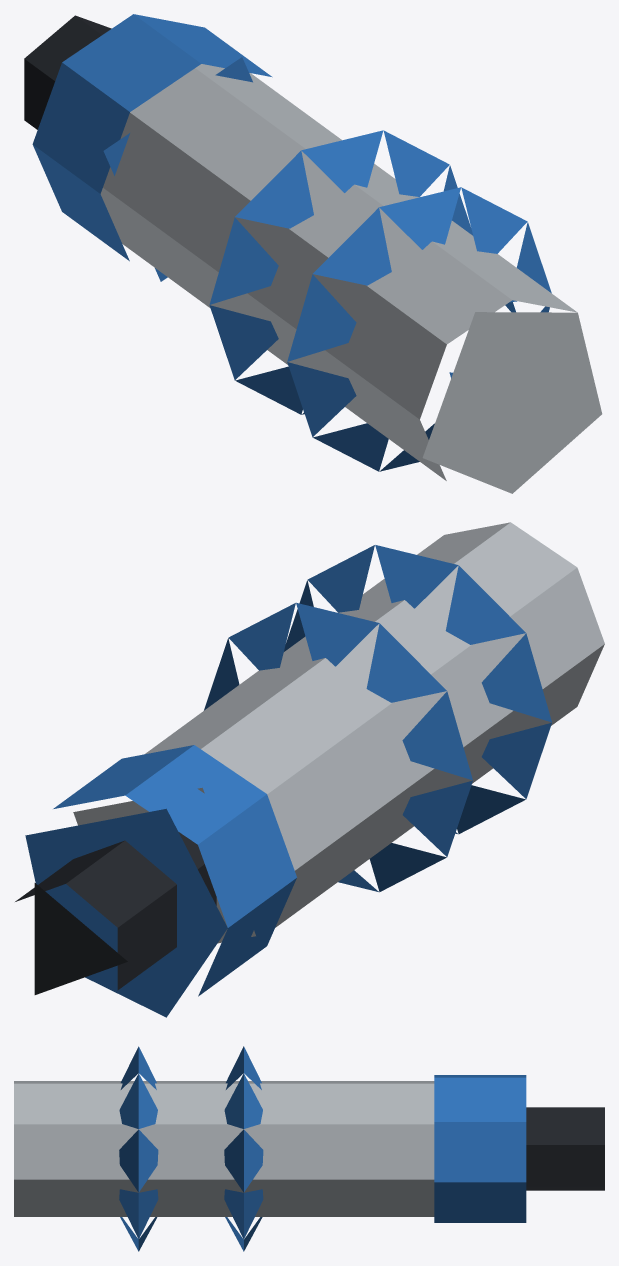
File: stim-intelligence.lod.glb
3 renders of one model, top to bottom at view 1: azimuth 30°, elevation 25°; view 2: azimuth 150°, elevation 25°; view 3: azimuth 270°, elevation 25°, orthographic. The views are drawn at different scales.
Parts seen in each view (by area): view 1: m; view 2: m; view 3: m.
Boxes of the visible parts, x1,y1,x2,y2 form: m: [24, 14, 602, 493]; m: [15, 522, 604, 1017]; m: [14, 1046, 604, 1251].
Size of the model in its own units: 0.0235 by 0.0224 by 0.0669.
